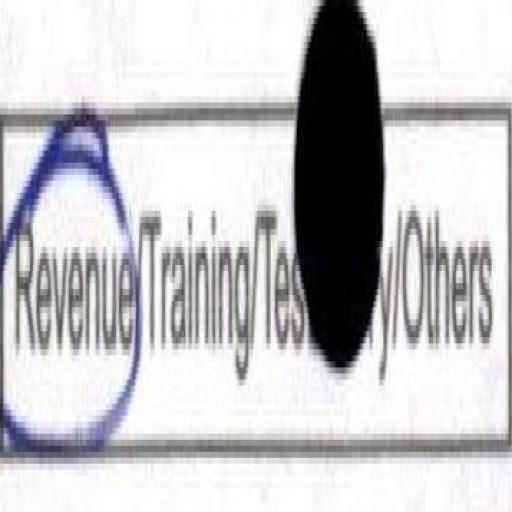check: (0, 60, 141, 494)
